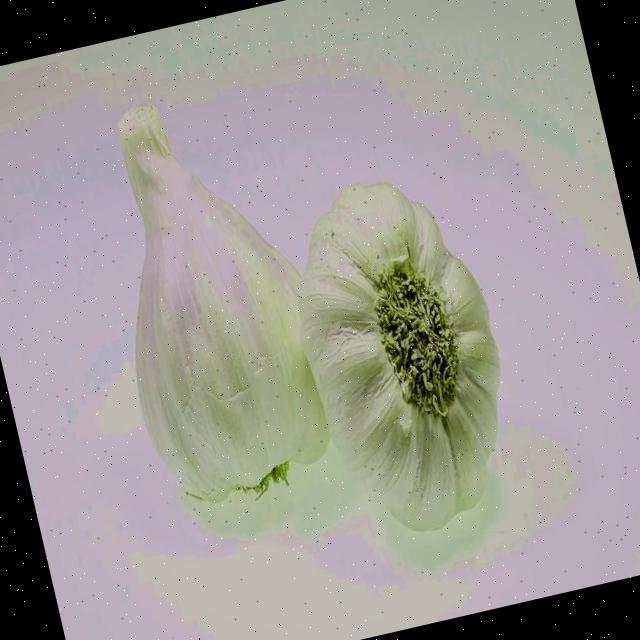garlic: (117, 104, 329, 501), (299, 183, 499, 530)
